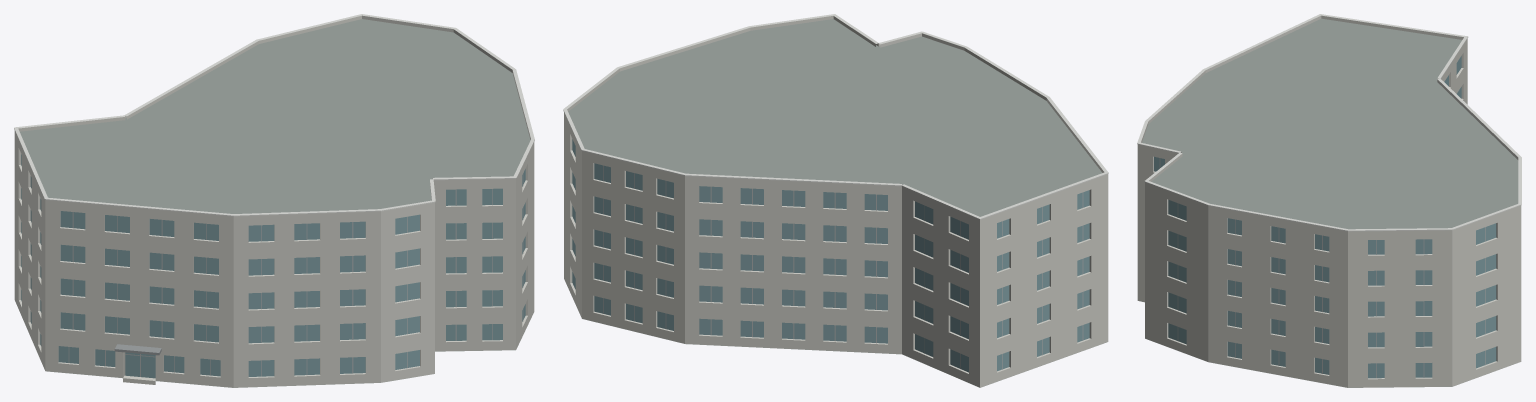
The picture shows the model from 3 angles, left to right: view 1: azimuth 30°, elevation 25°; view 2: azimuth 150°, elevation 25°; view 3: azimuth 270°, elevation 25°; orthographic projection. The views are drawn at different scales.
Parts seen in each view (by area): view 1: eoullim__wall, eoullim__roof, eoullim__glass, eoullim__trim, eoullim__parapet, eoullim__frame; view 2: eoullim__wall, eoullim__roof, eoullim__glass, eoullim__trim, eoullim__parapet, eoullim__frame; view 3: eoullim__roof, eoullim__wall, eoullim__glass, eoullim__trim, eoullim__parapet, eoullim__frame.
Boxes of the visible parts, bbox=[...] form: eoullim__wall: bbox=[14, 131, 534, 387]; eoullim__roof: bbox=[18, 19, 531, 387]; eoullim__glass: bbox=[21, 154, 525, 378]; eoullim__trim: bbox=[14, 14, 534, 216]; eoullim__parapet: bbox=[14, 15, 534, 218]; eoullim__frame: bbox=[68, 174, 523, 376]; eoullim__wall: bbox=[564, 113, 1108, 387]; eoullim__roof: bbox=[568, 19, 1106, 387]; eoullim__glass: bbox=[572, 139, 1089, 372]; eoullim__trim: bbox=[563, 14, 1108, 219]; eoullim__parapet: bbox=[564, 16, 1108, 221]; eoullim__frame: bbox=[603, 165, 1083, 369]; eoullim__roof: bbox=[1139, 18, 1519, 387]; eoullim__wall: bbox=[1137, 40, 1521, 387]; eoullim__glass: bbox=[1154, 56, 1496, 378]; eoullim__trim: bbox=[1137, 14, 1521, 231]; eoullim__parapet: bbox=[1137, 15, 1521, 233]; eoullim__frame: bbox=[1159, 158, 1485, 378].
Bounding box in the file's own units: 54.18 × 18.75 × 40.66.
